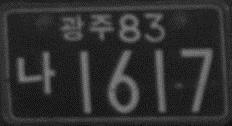1: (152, 46, 170, 115), (76, 48, 94, 115)
3: (142, 11, 166, 43)
6: (105, 49, 141, 113)
7: (176, 45, 214, 114)
8: (118, 13, 141, 43)
광주_O: (57, 13, 114, 41)
나: (14, 49, 57, 96)
